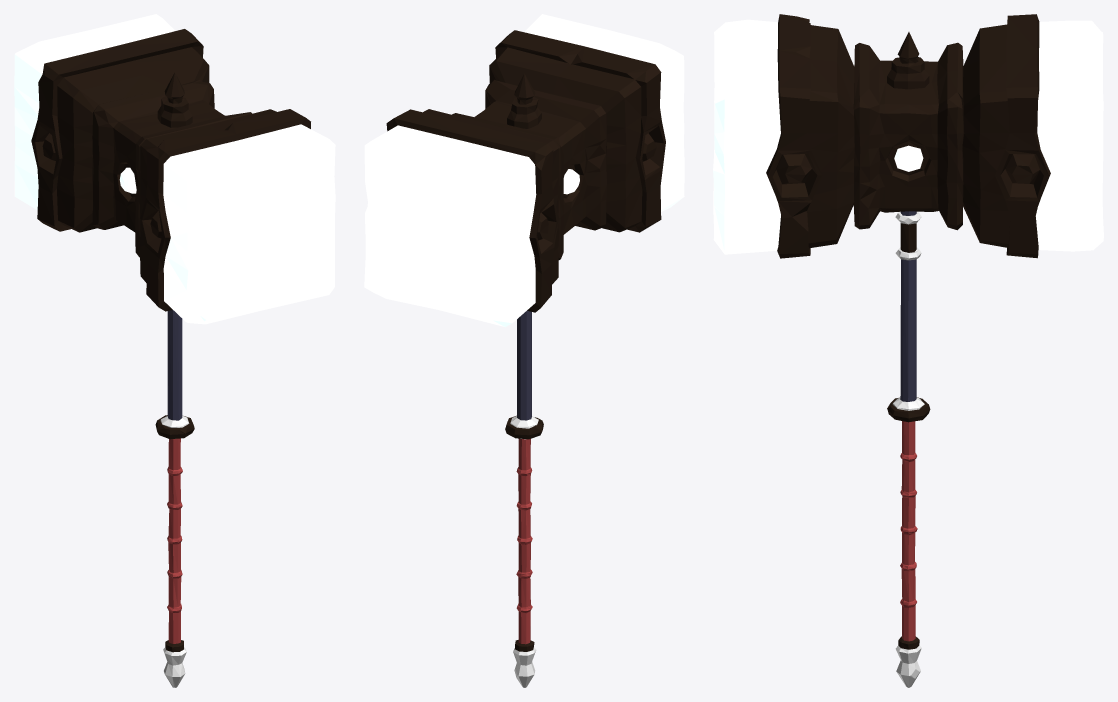
The model's file is SFFA_Weapon_Hammer_Runical_004.fbx.
3 views of the same model, side by side, from view 1: azimuth 30°, elevation 25°; view 2: azimuth 150°, elevation 25°; view 3: azimuth 270°, elevation 25° (orthographic). The views are drawn at different scales.
Visible parts, largest first — view 1: SFFA_Weapon_Hammer_Runical_004; view 2: SFFA_Weapon_Hammer_Runical_004; view 3: SFFA_Weapon_Hammer_Runical_004.
Boxes of the visible parts, left/top/right/bottom form: SFFA_Weapon_Hammer_Runical_004: left=14, top=14, right=335, bottom=687; SFFA_Weapon_Hammer_Runical_004: left=364, top=14, right=684, bottom=687; SFFA_Weapon_Hammer_Runical_004: left=713, top=14, right=1103, bottom=687.
Bounding box in the file's own units: 37.35 × 142 × 76.52.
